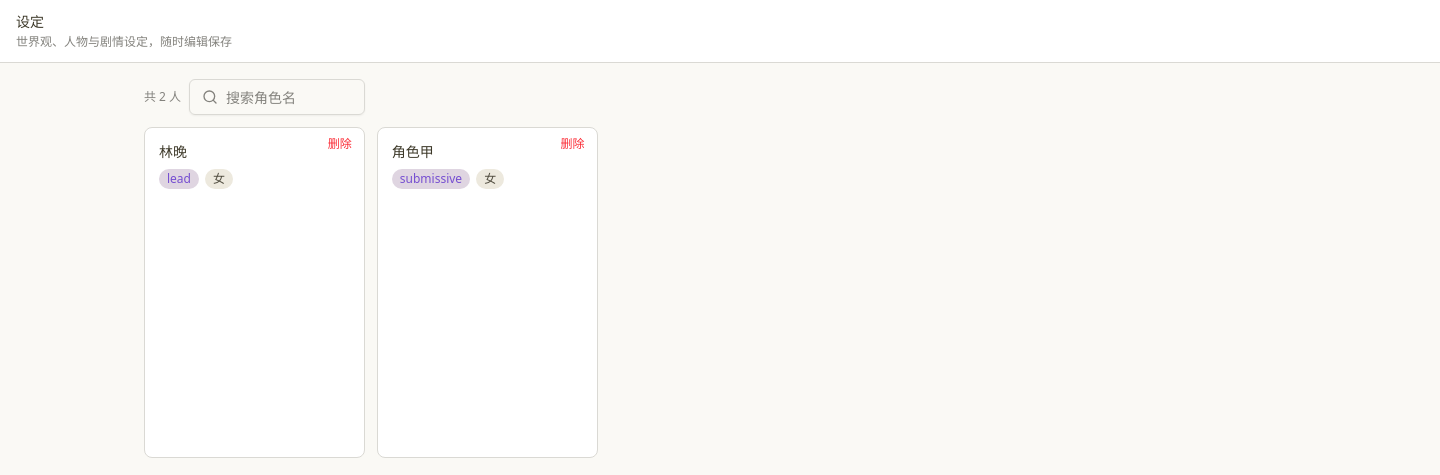
Test: SetupPage › cast tab 支持按名搜索
This screenshot has width=1440, height=475.
Expected: the heading "林晚" is shown, [159,142,187,161]
Expected: the heading "角色甲" is shown, [392,142,434,161]
In the search field with placeholder "搜索角色名": (291, 97) [218,79,364,115], type "林"
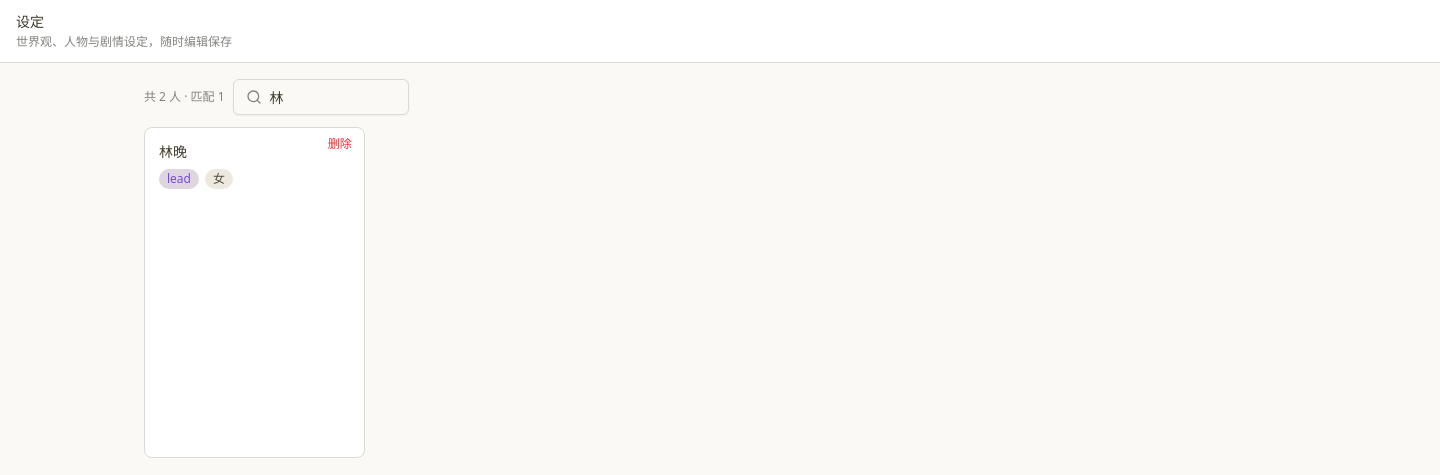
Expected: the heading "林晚" is shown, [159,142,187,161]
Now the text "共 2 人 · 匹配 1" is shown, box [144,89,224,105]
Now the button "角色甲" is gone
